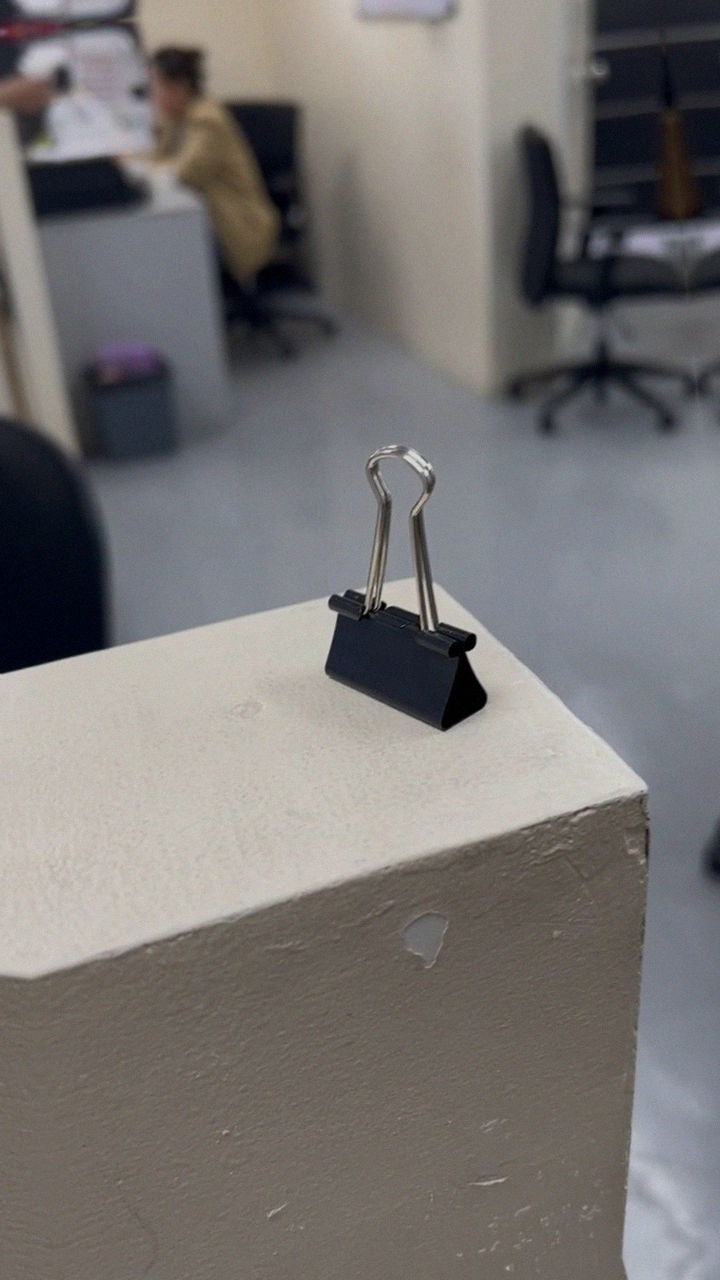kep_giay: (299, 434, 495, 746)
